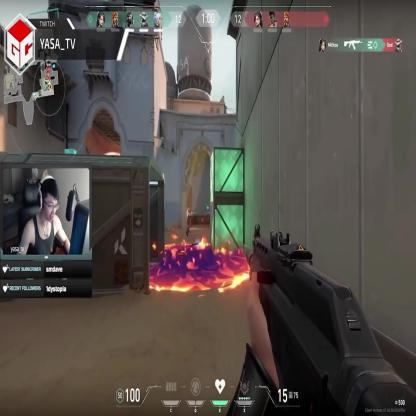enemy: (186, 204, 192, 236)
enemy_head: (188, 206, 192, 213)
